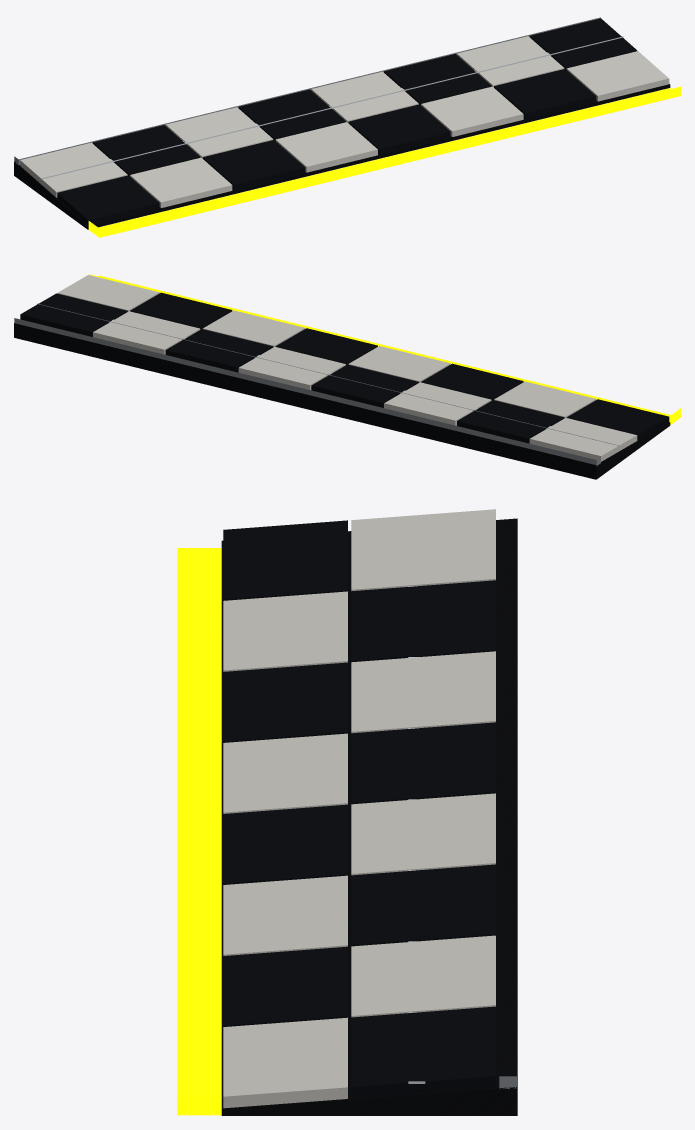
File: v1_apron.glb
3 renders of one model, top to bottom at view 1: azimuth 30°, elevation 25°; view 2: azimuth 150°, elevation 25°; view 3: azimuth 270°, elevation 25°, orthographic. The views are drawn at different scales.
Parts seen in each view (by area): view 1: Pavers_A, Pavers_B, Nosing_Line, Apron_Body, Court_Lines, Drain_Grate; view 2: Pavers_B, Pavers_A, Apron_Body, Drain_Grate, Nosing_Line, Court_Lines; view 3: Pavers_B, Pavers_A, Nosing_Line, Apron_Body.
Boxes of the visible parts, x1,y1,x2,y2 form: Pavers_A: [20, 36, 669, 207]; Pavers_B: [57, 18, 637, 225]; Nosing_Line: [88, 86, 680, 237]; Apron_Body: [14, 84, 670, 229]; Court_Lines: [37, 36, 623, 179]; Drain_Grate: [14, 17, 600, 165]; Pavers_B: [20, 292, 669, 443]; Pavers_A: [57, 275, 637, 461]; Apron_Body: [14, 323, 670, 479]; Drain_Grate: [14, 318, 600, 465]; Nosing_Line: [88, 274, 680, 424]; Court_Lines: [37, 302, 623, 446]; Pavers_B: [223, 520, 495, 1098]; Pavers_A: [223, 509, 495, 1108]; Nosing_Line: [177, 548, 220, 1115]; Apron_Body: [221, 518, 517, 1115].
Size of what is drawn, in the model's own units: 4 by 0.1293 by 1.01.
6 materials, 3 textured.
